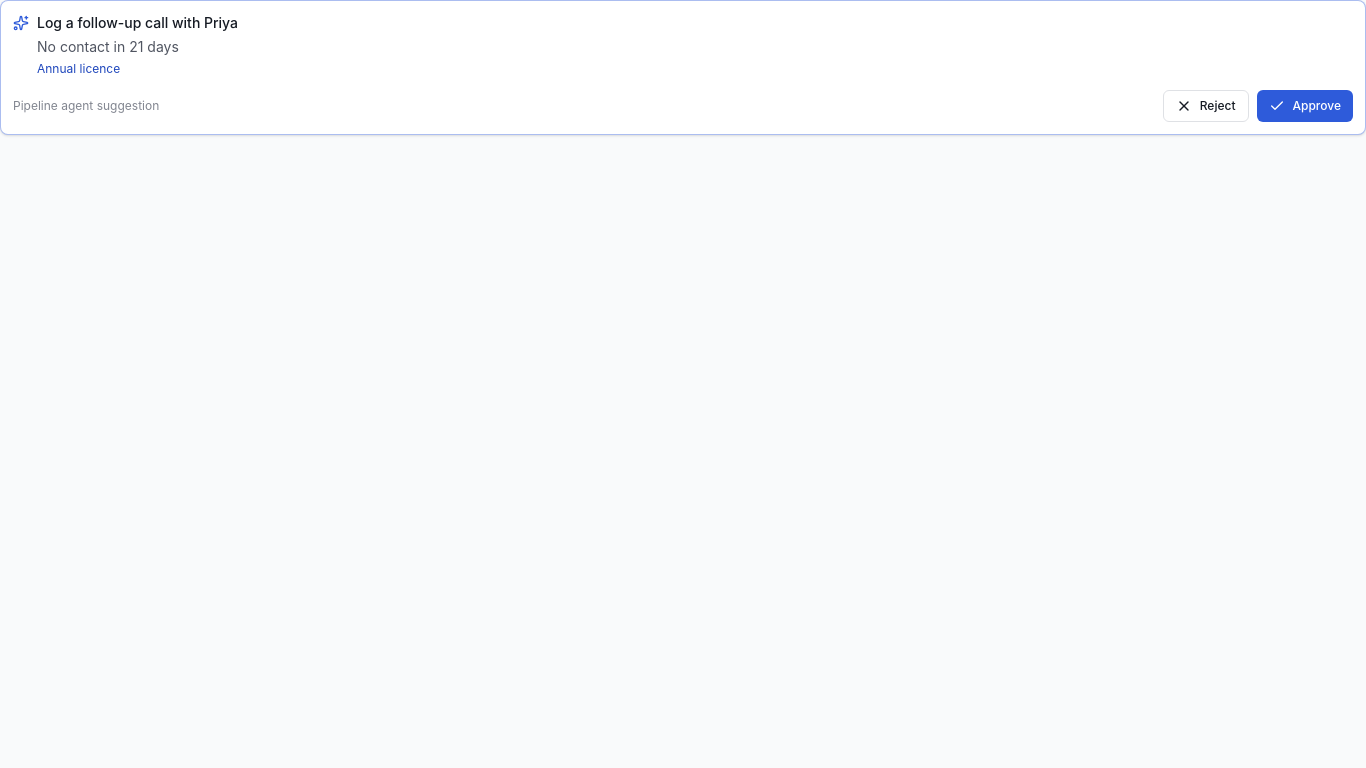
Test: ProposalCard › applies the change only when someone approves it
Expected: the text "Pipeline agent suggestion" is shown, [13,98,159,114]
Step 1. Click the button "Approve" → (1305, 106), box [1256,90,1353,122]
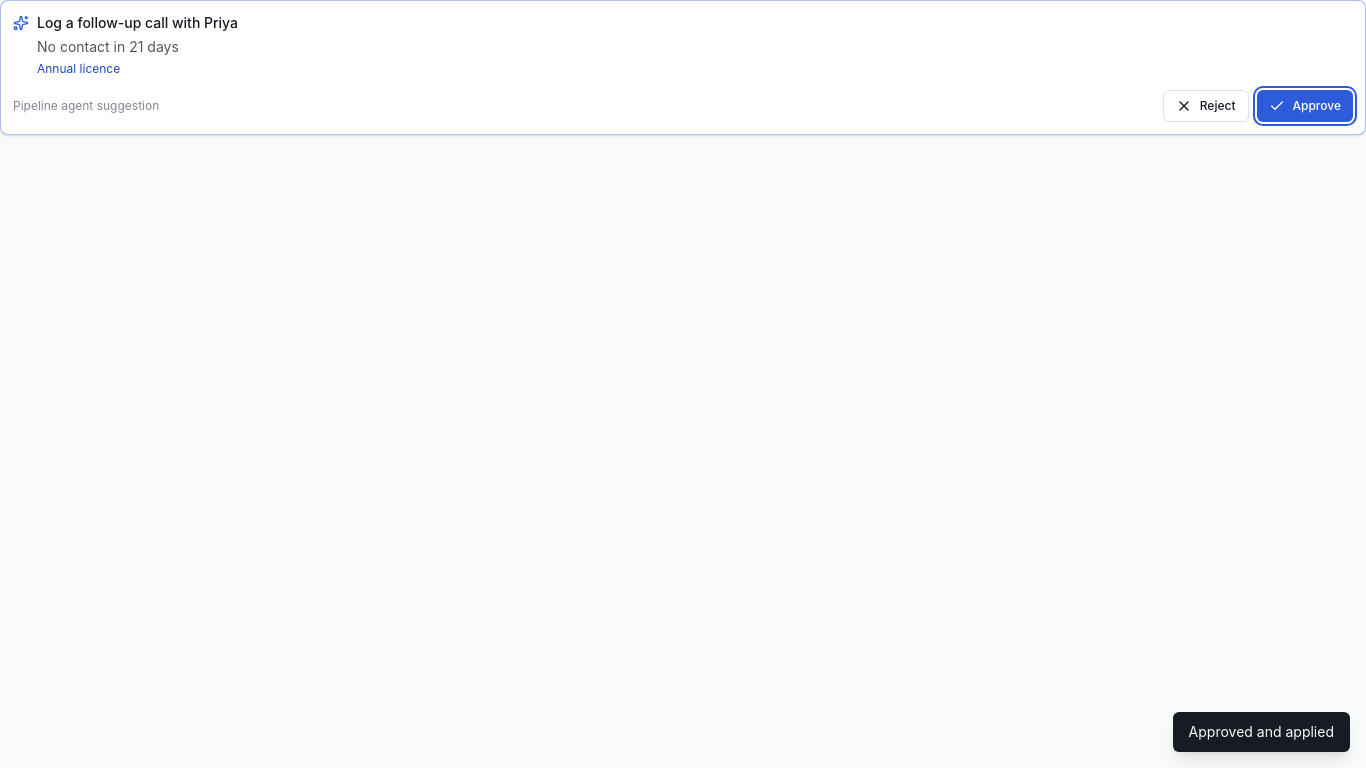
Expected: the message reads "Approved and applied", [1189,723,1334,740]
